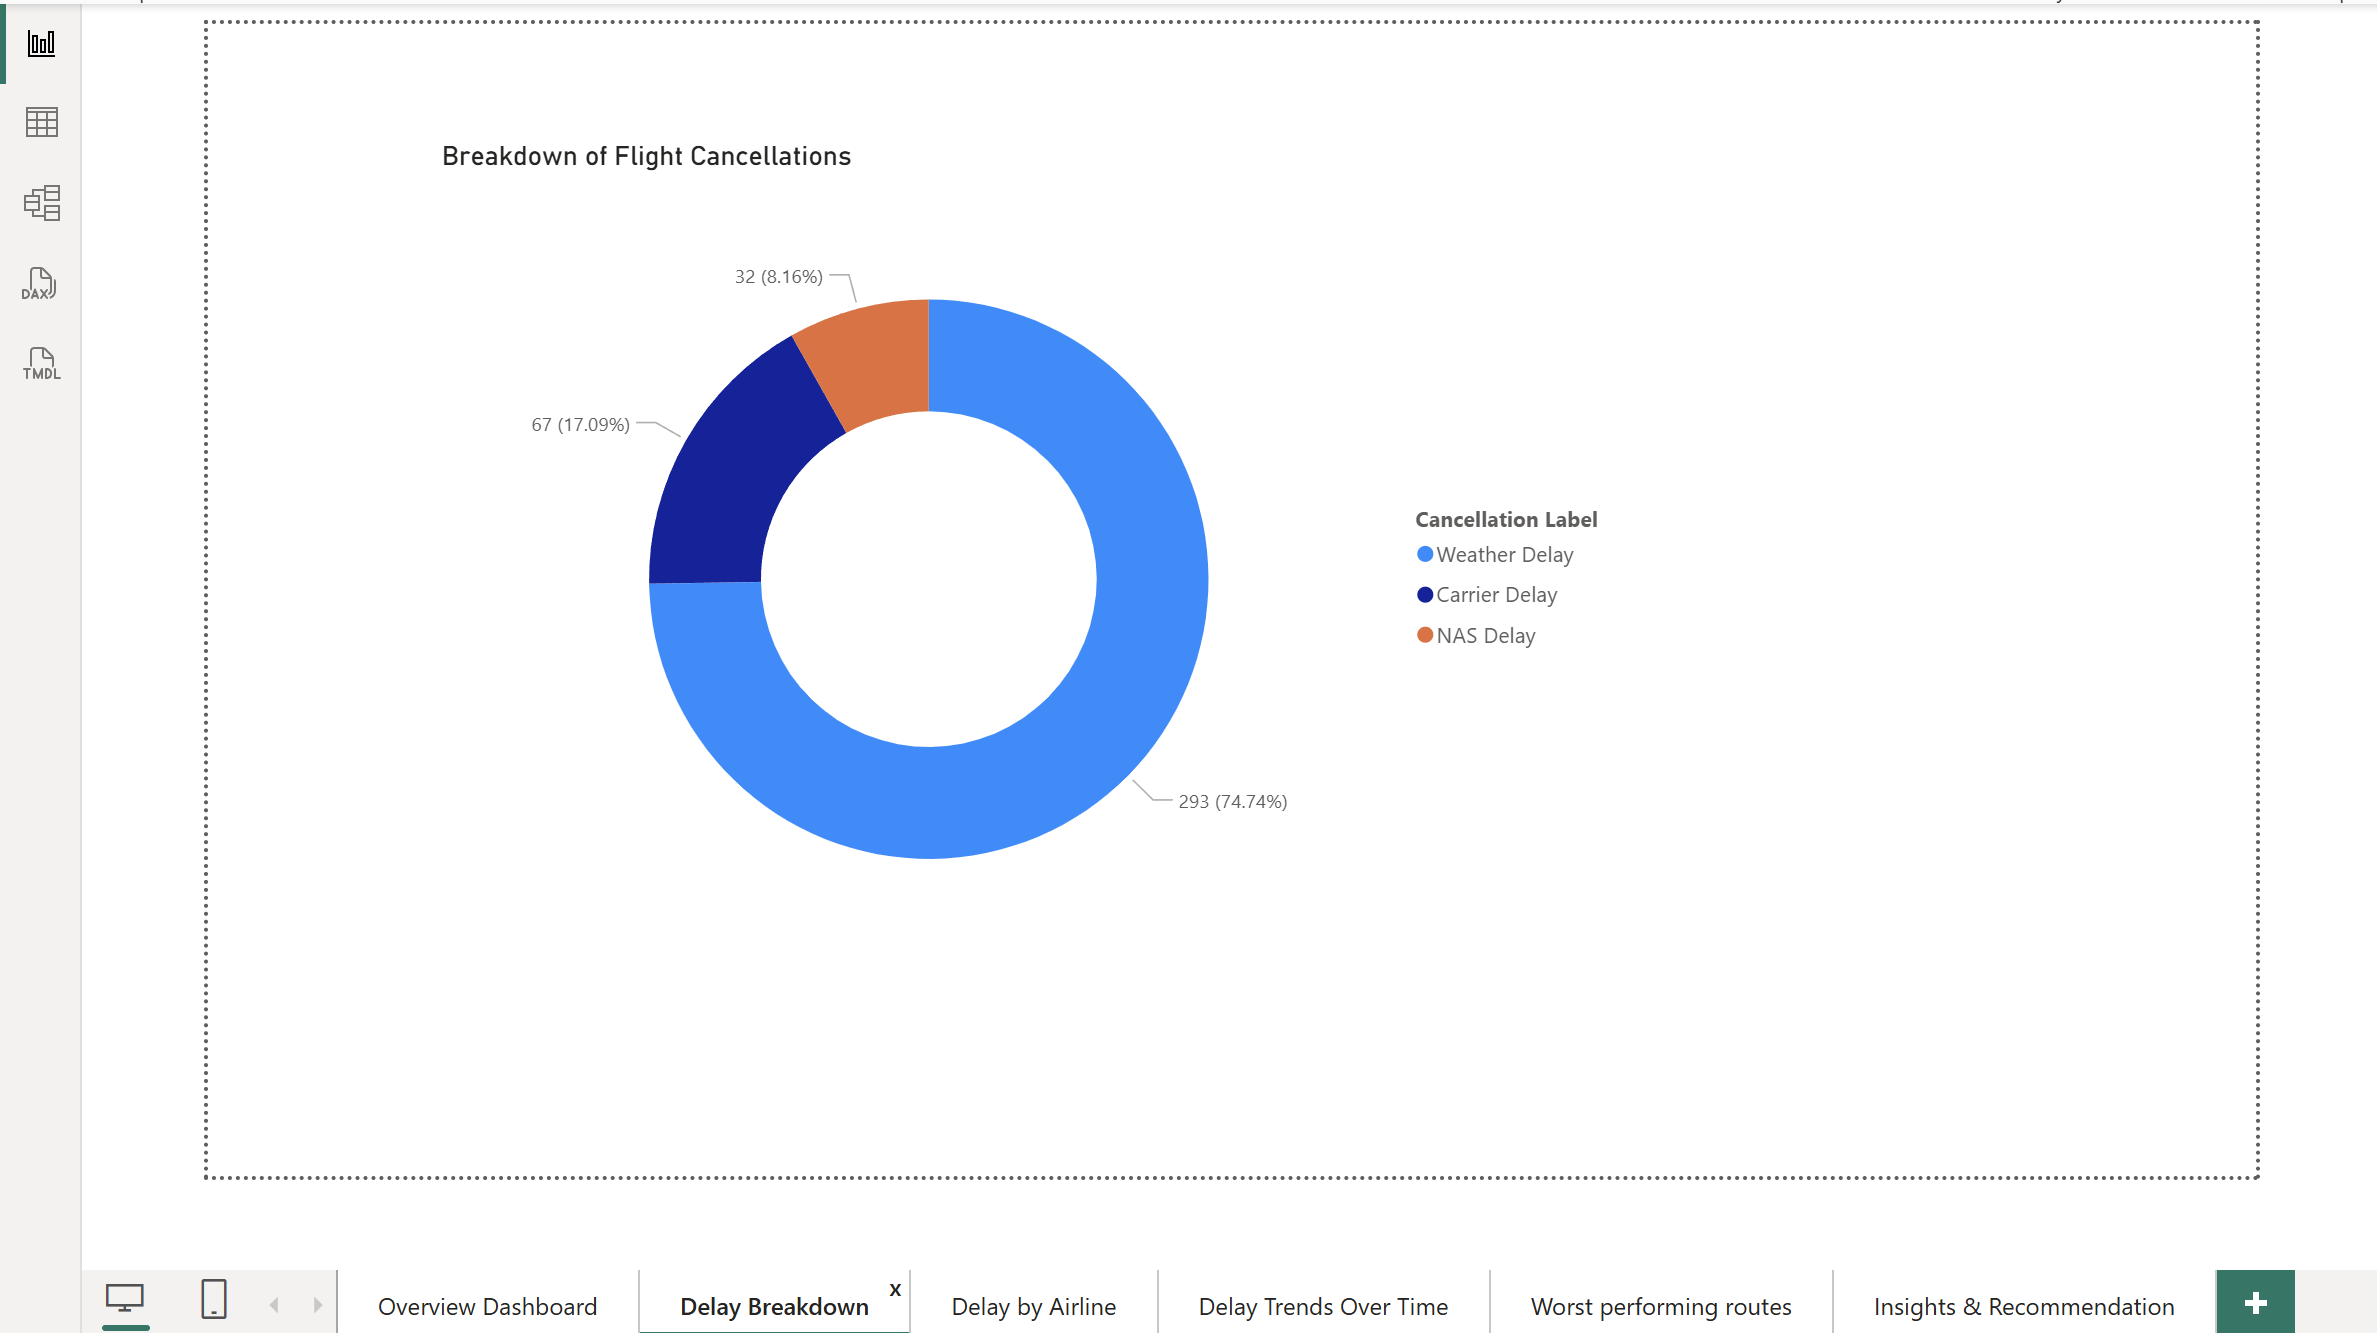

This screenshot's page, from the dashboard's own definition file:
{"tool":"powerbi","page":{"name":"Delay Breakdown","canvas":[1280,720],"ordinal":1},"visuals":[{"type":"donutChart","title":"Breakdown of Flight Cancellations","fields":{"Y":["CountNonNull(flights.CANCELLATION_REASON)"],"Category":["flights.Cancellation Label"]},"box":[141.2,72.5,747.5,530],"z":0}]}

Visuals, with their boxes on the page's 1280x720 design canvas (x1, y1, x2, y2). These are canvas units, not pixel positions in the 2377x1333 screenshot, which may show the page scaled, cropped or inside an application window:
"Breakdown of Flight Cancellations" donutChart: [141, 72, 889, 602]
